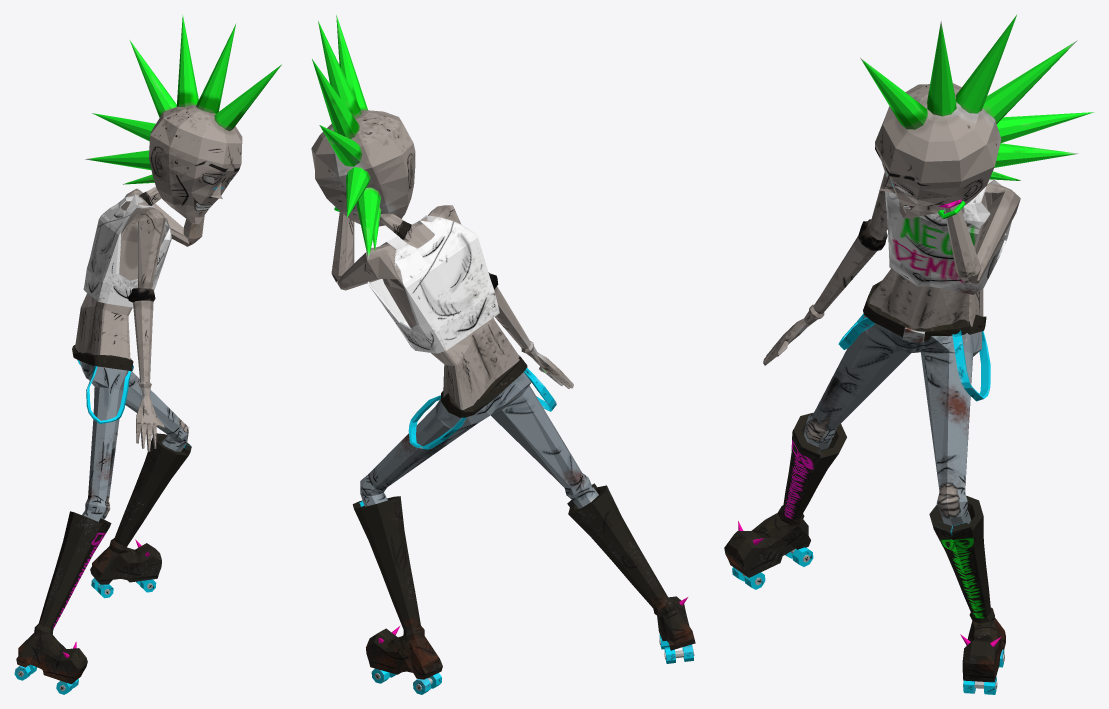
The model's file is punkAnimation_000058.obj.
3 views of the same model, side by side, from view 1: azimuth 30°, elevation 25°; view 2: azimuth 150°, elevation 25°; view 3: azimuth 270°, elevation 25° (orthographic). The views are drawn at different scales.
Visible parts, largest first — view 1: Cube.004_Cube.003; view 2: Cube.004_Cube.003; view 3: Cube.004_Cube.003.
Boxes of the visible parts, bbox=[...] form: Cube.004_Cube.003: bbox=[14, 15, 281, 694]; Cube.004_Cube.003: bbox=[311, 15, 695, 694]; Cube.004_Cube.003: bbox=[724, 15, 1094, 694].
Bounding box in the file's own units: 3.67 × 6.67 × 3.11.
